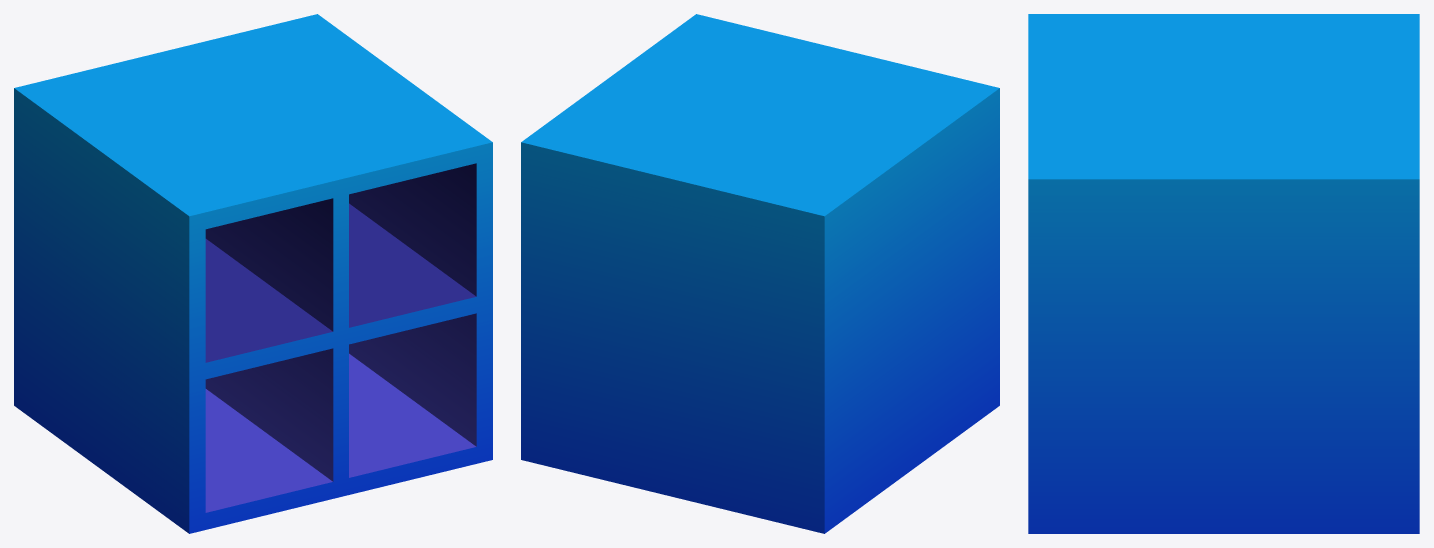
Rendered from SM_EstanteriaCuadrada.fbx.
The picture shows the model from 3 angles, left to right: view 1: azimuth 30°, elevation 25°; view 2: azimuth 150°, elevation 25°; view 3: azimuth 270°, elevation 25°; orthographic projection. The views are drawn at different scales.
Parts seen in each view (by area): view 1: Estanteria1; view 2: Estanteria1; view 3: Estanteria1.
Boxes of the visible parts, x1,y1,x2,y2 form: Estanteria1: [14, 14, 492, 533]; Estanteria1: [521, 14, 999, 533]; Estanteria1: [1028, 14, 1419, 533].
Bounding box in the file's own units: 100 × 100 × 100.
